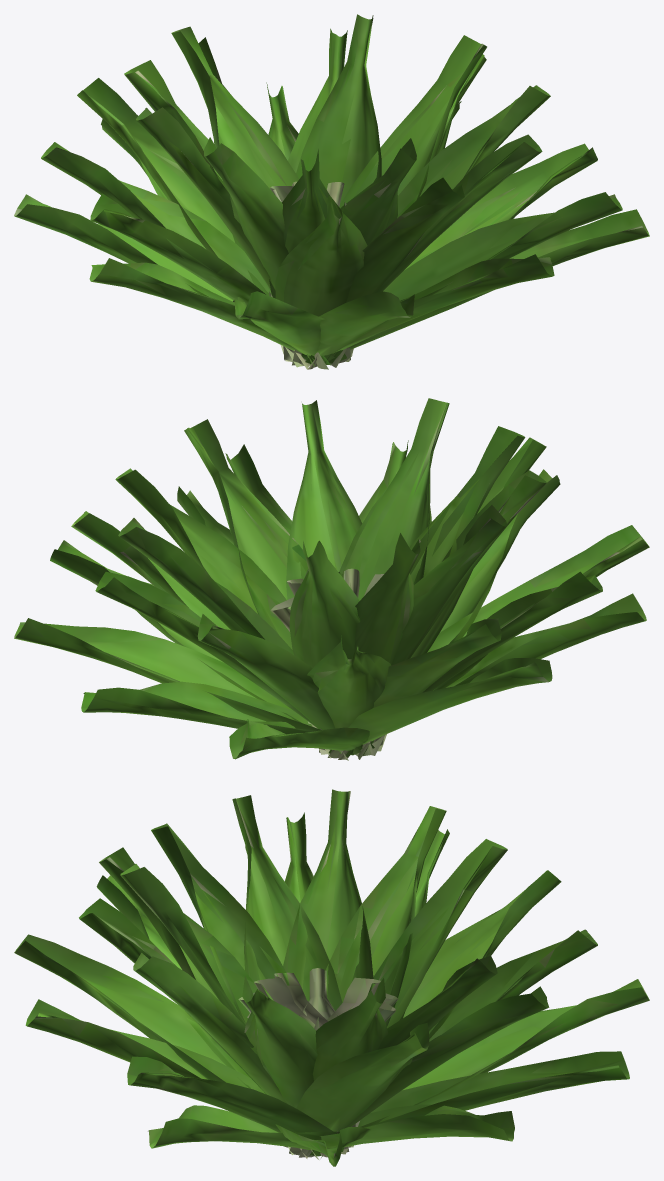
File: crop_endive.glb
3 views of the same model, one above another, from view 1: azimuth 30°, elevation 25°; view 2: azimuth 150°, elevation 25°; view 3: azimuth 270°, elevation 25° (orthographic).
Visible parts, largest first — view 1: crop_endive, fruit; view 2: crop_endive, fruit; view 3: crop_endive, fruit.
Boxes of the visible parts, x1,y1,x2,y2 form: crop_endive: (14, 14, 649, 365); fruit: (269, 181, 353, 369); crop_endive: (14, 398, 649, 759); fruit: (270, 568, 386, 760); crop_endive: (14, 789, 649, 1166); fruit: (238, 968, 398, 1159).
Size of the model in its own units: 0.1586 by 0.0792 by 0.1576.
Materials: 1 (1 with a texture image).
